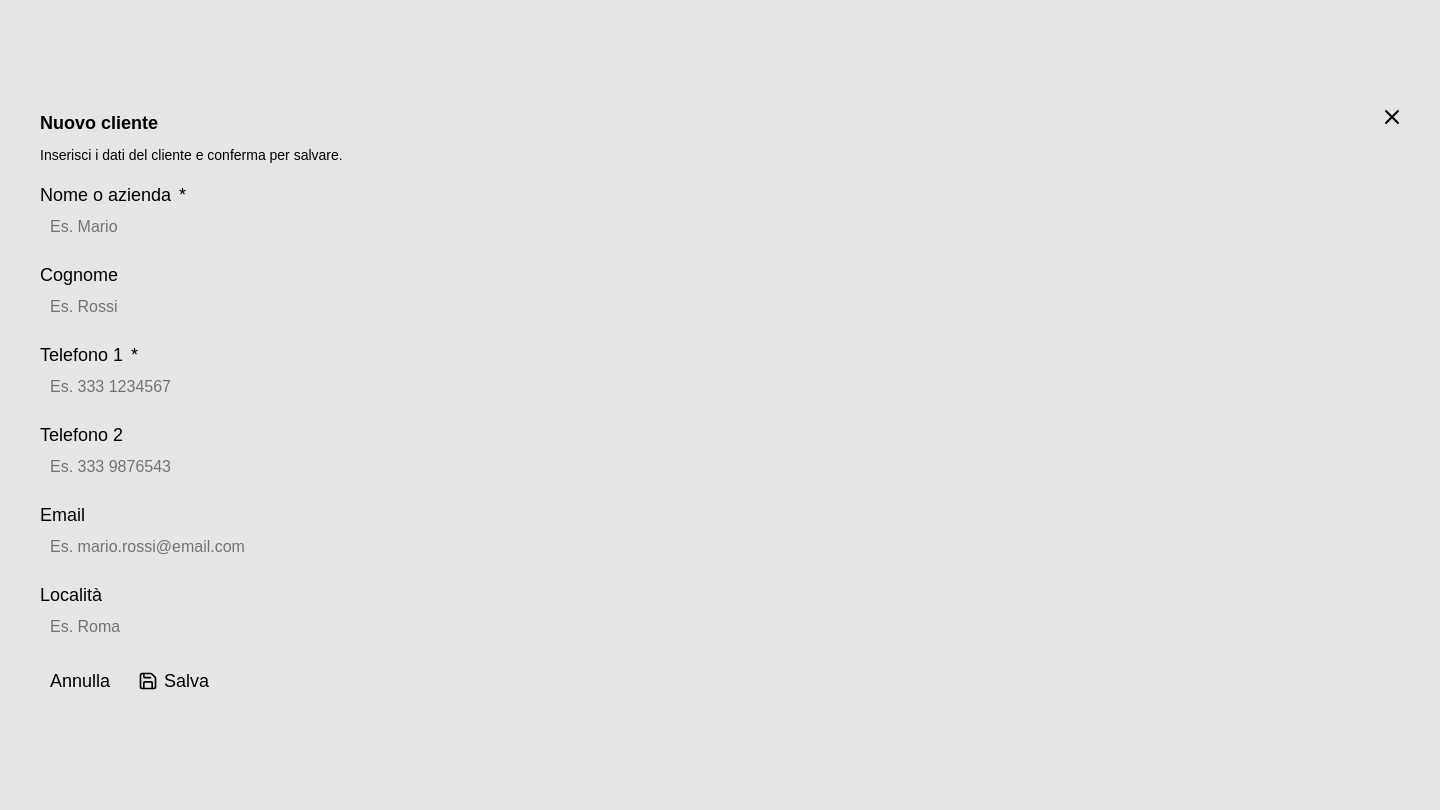
Test: CreateCustomerDialog › pretende il nome e il primo telefono, segnalandoli insieme
What coordinates should you click on to do the following:
click the button "Salva"
I would click on:
 (174, 681)
Its box is 128,661 -> 219,701.
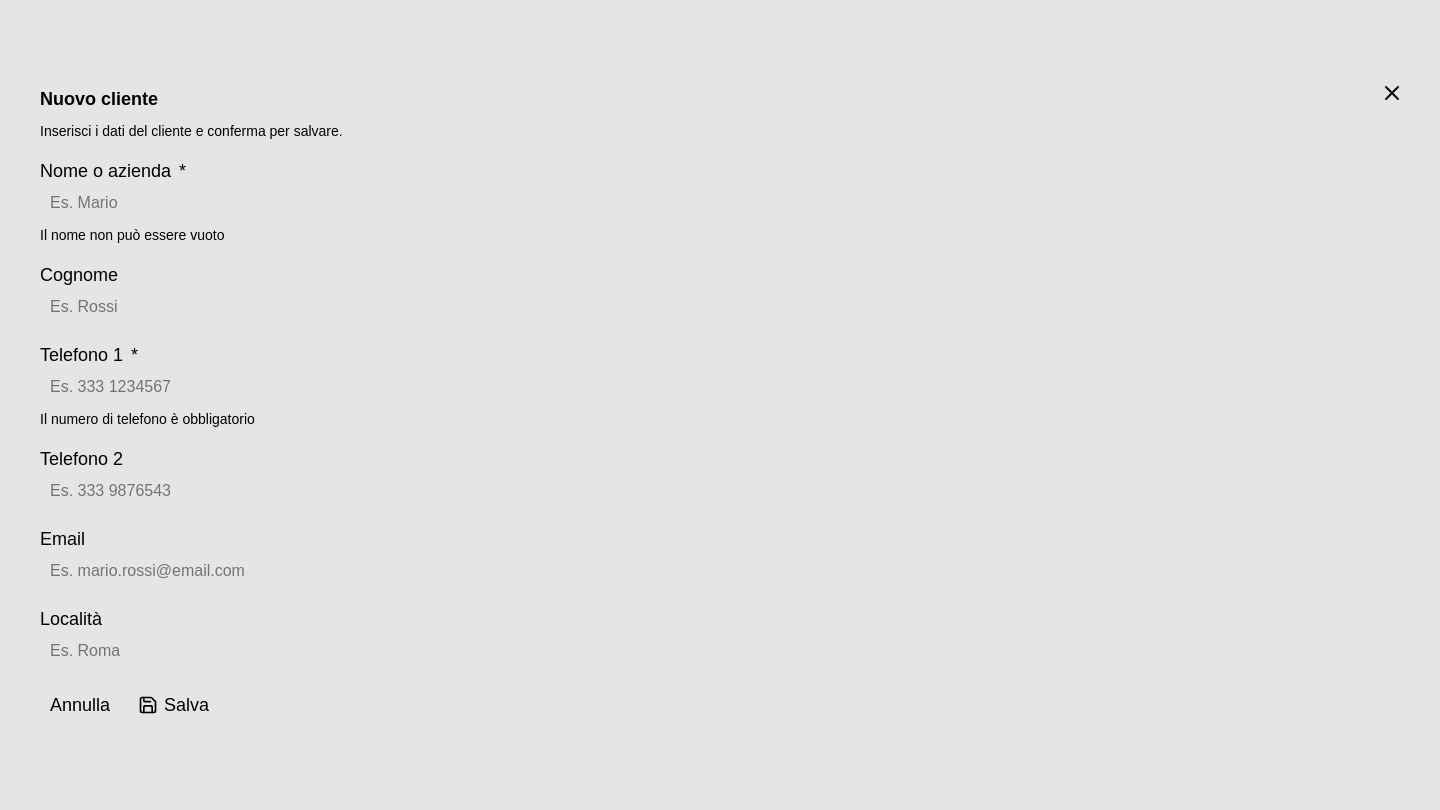
Now the messages read "Il nome non può essere vuoto", "Il numero di telefono è obbligatorio", in this order, box 40,227 -> 224,243; 40,411 -> 255,427
